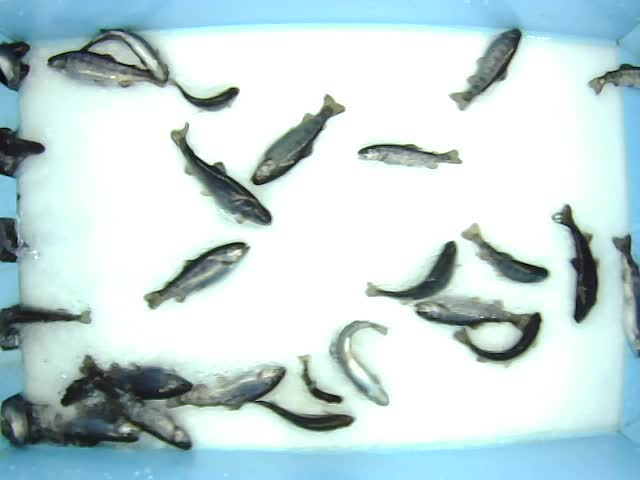fish: (169, 120, 274, 227), (250, 91, 347, 186), (89, 373, 194, 452), (143, 239, 250, 312), (364, 239, 463, 306), (448, 26, 521, 113), (549, 204, 600, 325), (163, 363, 288, 410), (458, 222, 551, 285), (77, 352, 194, 401), (328, 319, 391, 408), (453, 310, 543, 370), (78, 26, 170, 84), (46, 49, 167, 89), (412, 296, 536, 328), (250, 399, 355, 433), (356, 143, 464, 169), (166, 77, 242, 112), (295, 353, 344, 405)
